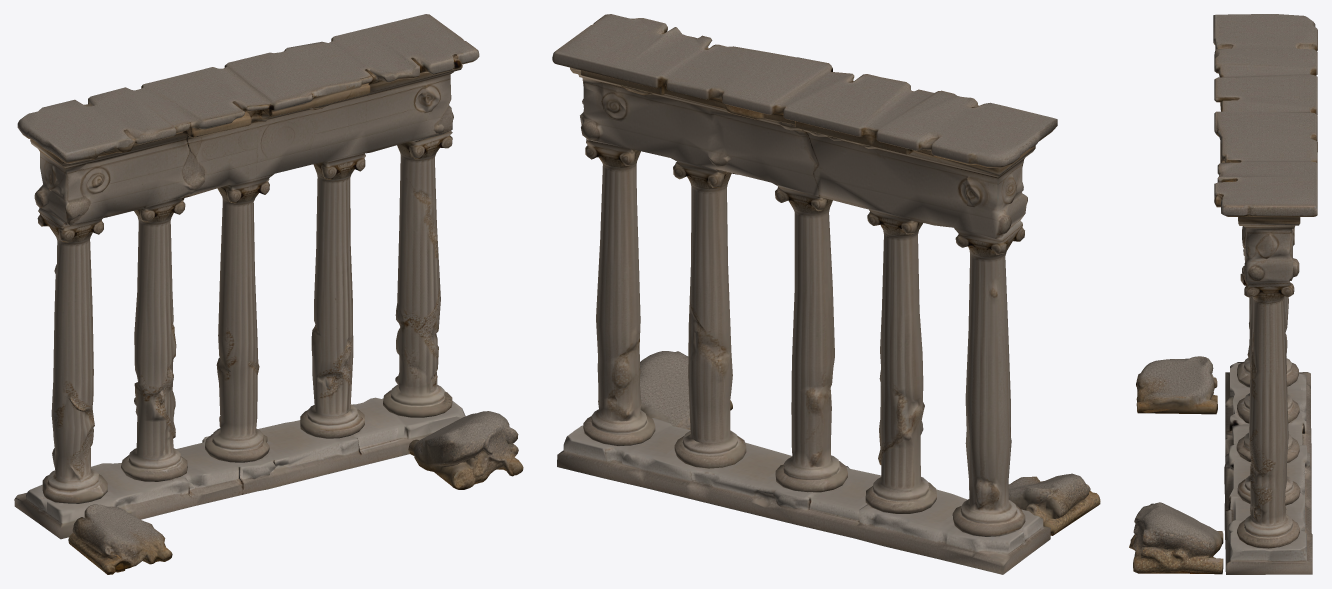
The model's file is tripo_convert_7c97ff5a-f81b-4c47-9dcf-f046dfeac62f.fbx.
3 views of the same model, side by side, from view 1: azimuth 30°, elevation 25°; view 2: azimuth 150°, elevation 25°; view 3: azimuth 270°, elevation 25° (orthographic). The views are drawn at different scales.
Parts seen in each view (by area): view 1: tripo_node_7c97ff5a; view 2: tripo_node_7c97ff5a; view 3: tripo_node_7c97ff5a.
Part boxes in pixels (x1,y1,x2,y2): tripo_node_7c97ff5a: (14,14,523,574); tripo_node_7c97ff5a: (552,14,1100,574); tripo_node_7c97ff5a: (1129,14,1317,574).
Bounding box in the file's own units: 99.95 × 40.97 × 89.11.
Materials: 1 (1 with a texture image).
